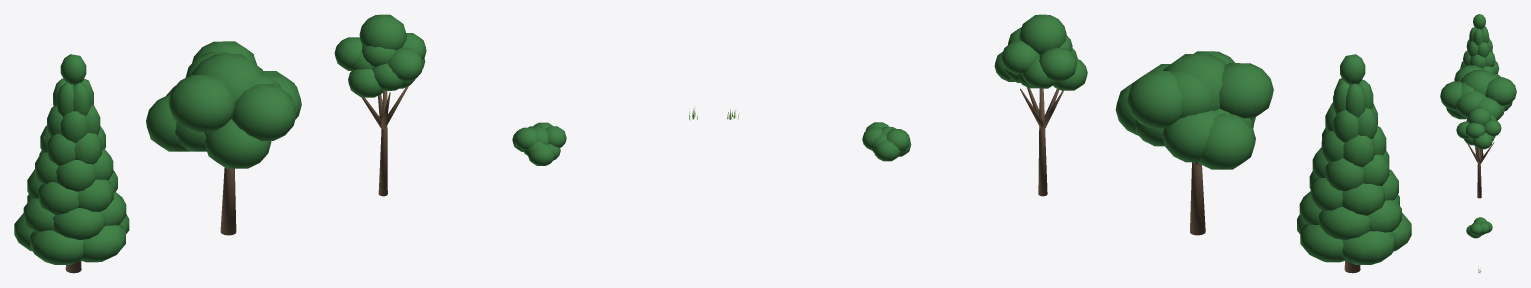
File: foliage.glb
3 renders of one model, left to right at view 1: azimuth 30°, elevation 25°; view 2: azimuth 150°, elevation 25°; view 3: azimuth 270°, elevation 25°, orthographic. The views are drawn at different scales.
Visible parts, largest first — view 1: Oak0_14.001, Oak0_16.001, Oak0_11.001, Oak0_19.001, Pine0_7.001, Birch0_19.001, Oak0_17.001, Pine0_11.001, Pine0_6.001, Pine0_16.001, Pine0_20.001, Oak0_0.001 (+23 smaller); view 2: Oak0_15.001, Oak0_14.001, Oak0_17.001, Oak0_12.001, Oak0_19.001, Pine0_8.001, Birch0_19.001, Pine0_13.001, Pine0_9.001, Oak0_7.001, Pine0_17.001, Birch0_17.001 (+20 smaller); view 3: Oak0_15.001, Oak0_19.001, Oak0_16.001, Oak0_13.001, Birch0_19.001, Oak0_18.001, Birch0_13.001, Birch0_18.001, Birch0_15.001, Oak0_14.001, Birch0_0.001, Pine0_28.001 (+15 smaller).
Part boxes in pixels (bbox=[...]): Oak0_14.001: bbox=[168, 75, 235, 132]; Oak0_16.001: bbox=[231, 84, 296, 141]; Oak0_11.001: bbox=[204, 121, 271, 168]; Oak0_19.001: bbox=[191, 53, 263, 101]; Pine0_7.001: bbox=[30, 230, 83, 264]; Birch0_19.001: bbox=[359, 14, 406, 50]; Oak0_17.001: bbox=[146, 94, 189, 151]; Pine0_11.001: bbox=[52, 208, 105, 239]; Pine0_6.001: bbox=[80, 224, 125, 262]; Pine0_16.001: bbox=[38, 182, 78, 215]; Pine0_20.001: bbox=[56, 160, 95, 191]; Oak0_0.001: bbox=[220, 167, 236, 235]; Oak0_15.001: bbox=[1127, 71, 1182, 128]; Oak0_14.001: bbox=[1219, 63, 1273, 119]; Oak0_17.001: bbox=[1198, 112, 1255, 169]; Oak0_12.001: bbox=[1162, 110, 1217, 162]; Oak0_19.001: bbox=[1163, 54, 1226, 110]; Pine0_8.001: bbox=[1342, 231, 1395, 264]; Birch0_19.001: bbox=[1019, 14, 1066, 54]; Pine0_13.001: bbox=[1319, 207, 1369, 239]; Pine0_9.001: bbox=[1300, 224, 1345, 262]; Oak0_7.001: bbox=[1170, 70, 1212, 117]; Pine0_17.001: bbox=[1342, 183, 1384, 215]; Birch0_17.001: bbox=[1039, 47, 1077, 81]; Oak0_15.001: bbox=[1485, 77, 1516, 106]; Oak0_19.001: bbox=[1461, 70, 1491, 96]; Oak0_16.001: bbox=[1440, 81, 1462, 110]; Oak0_13.001: bbox=[1456, 91, 1485, 118]; Birch0_19.001: bbox=[1467, 107, 1491, 125]; Oak0_18.001: bbox=[1476, 97, 1501, 120]; Birch0_13.001: bbox=[1465, 122, 1484, 138]; Birch0_18.001: bbox=[1472, 133, 1492, 149]; Birch0_15.001: bbox=[1484, 119, 1501, 136]; Oak0_14.001: bbox=[1454, 65, 1483, 81]; Birch0_0.001: bbox=[1477, 148, 1481, 198]; Pine0_28.001: bbox=[1470, 54, 1486, 68].
Size of the model in its own units: 30.32 by 9.42 by 6.01.
